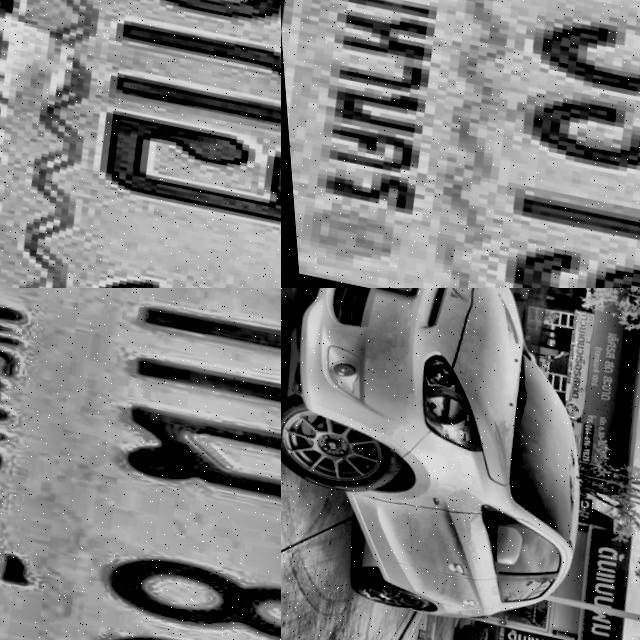license-plate: (281, 0, 640, 288), (0, 288, 281, 640), (0, 0, 281, 288), (368, 288, 431, 300)
